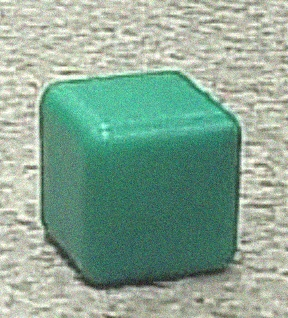green_cube: (28, 62, 251, 293)
